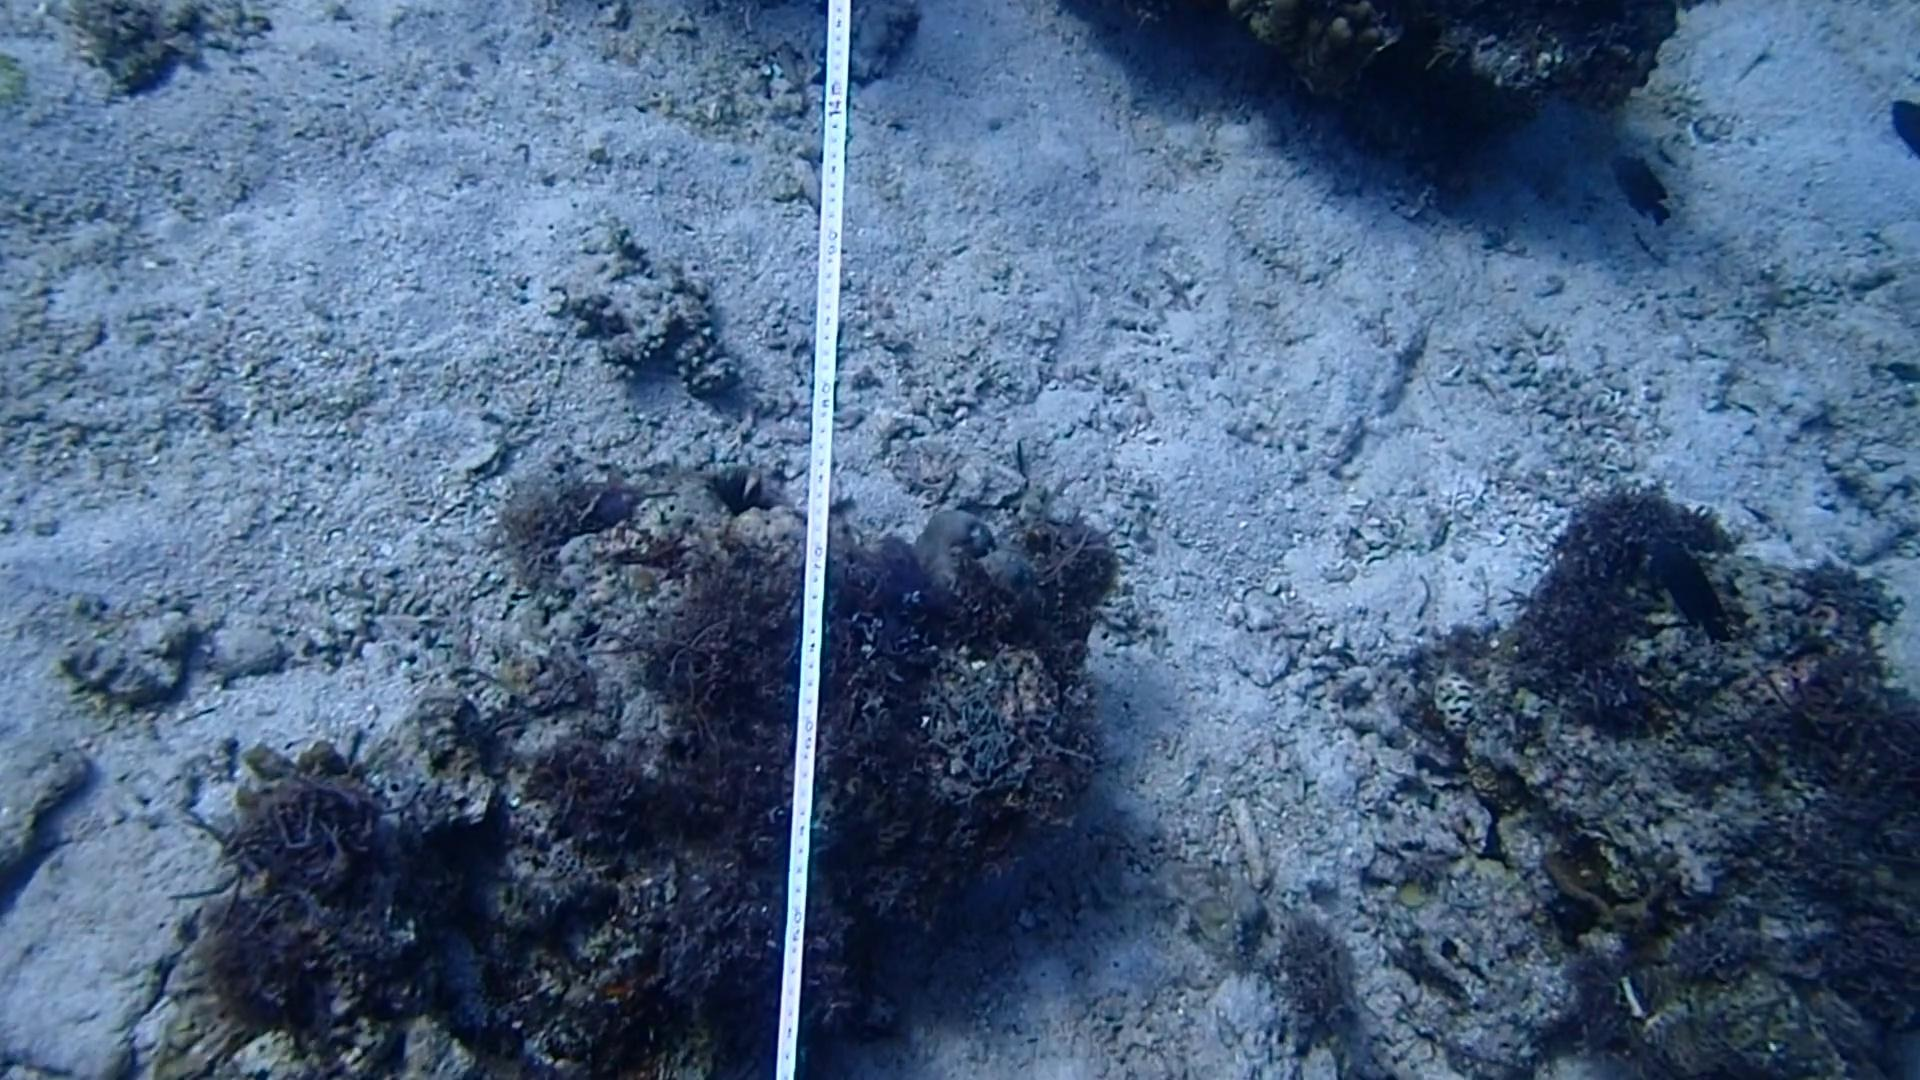Dark Fish: (1640, 533, 1731, 642), (1596, 141, 1676, 227), (1888, 87, 1920, 166)
